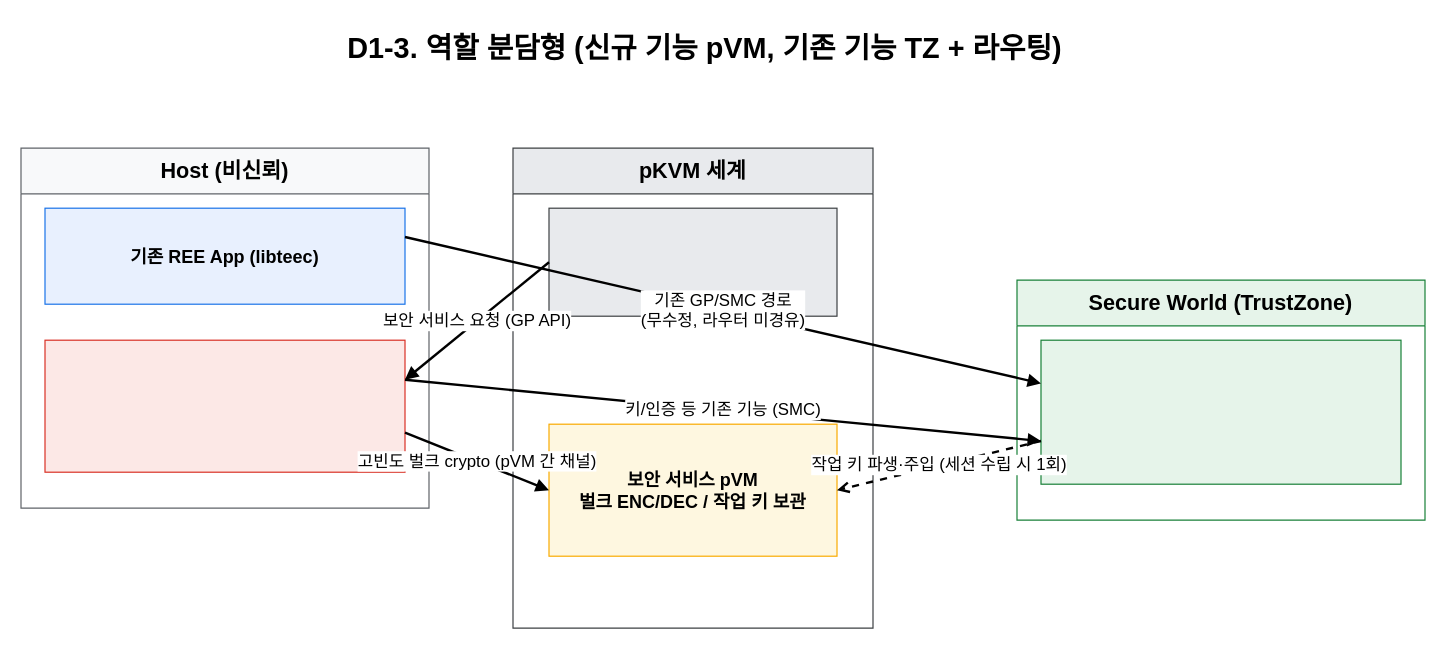
Some shapes in this 1446 by 649 pixel diagram are drawn without their labels. Here are the shapes that lost their labels. From the top down, the centre of each, then its label:
the point at 692,261: Secure Camera/AI pVM
the point at 224,405: 서비스 라우터 (Framework) uuid/기능 기준 라우팅 테이블 (기존 TA uuid는 무조건 TZ로)
the point at 1220,411: TZ Secure OS (무수정) 루트 키 / sealing / 기존 TA
